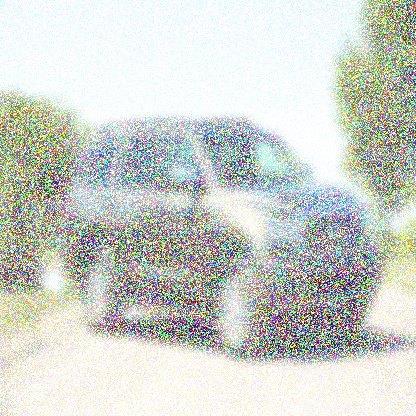Vehicle: (60, 115, 385, 360)
